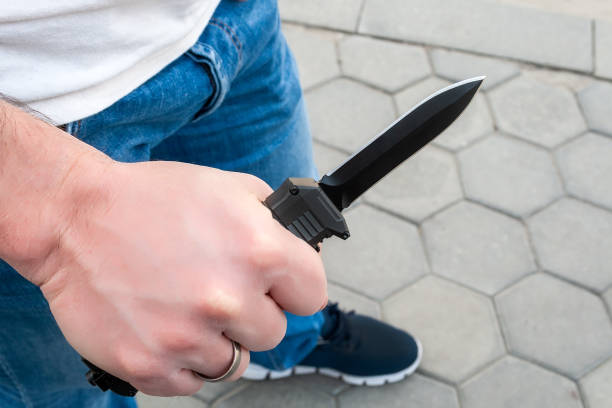knife: (81, 74, 487, 399)
